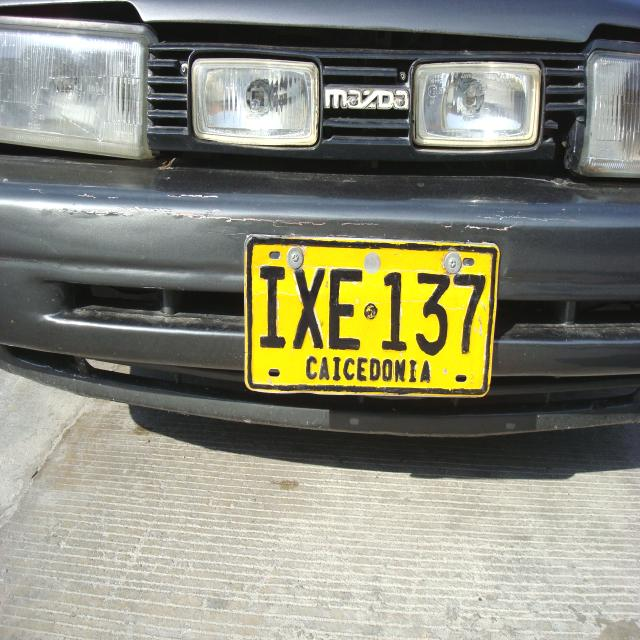particular: (238, 228, 508, 408)
